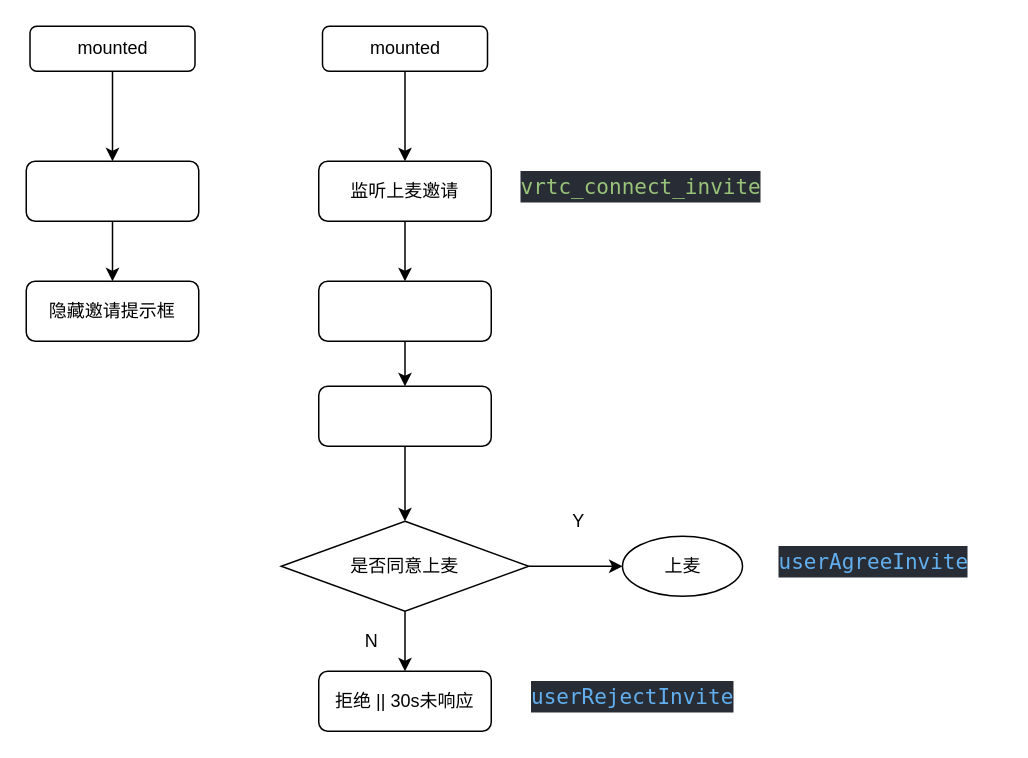
Image size: 1028x758. Some labels were removed from this diagram. Here are the shapes that lost their labels. From the top down, the box of each, then its label:
(25, 160, 199, 221): 监听禁言通知
(317, 280, 491, 341): 弹出邀请提示
(317, 385, 491, 446): 开始倒计时30s
